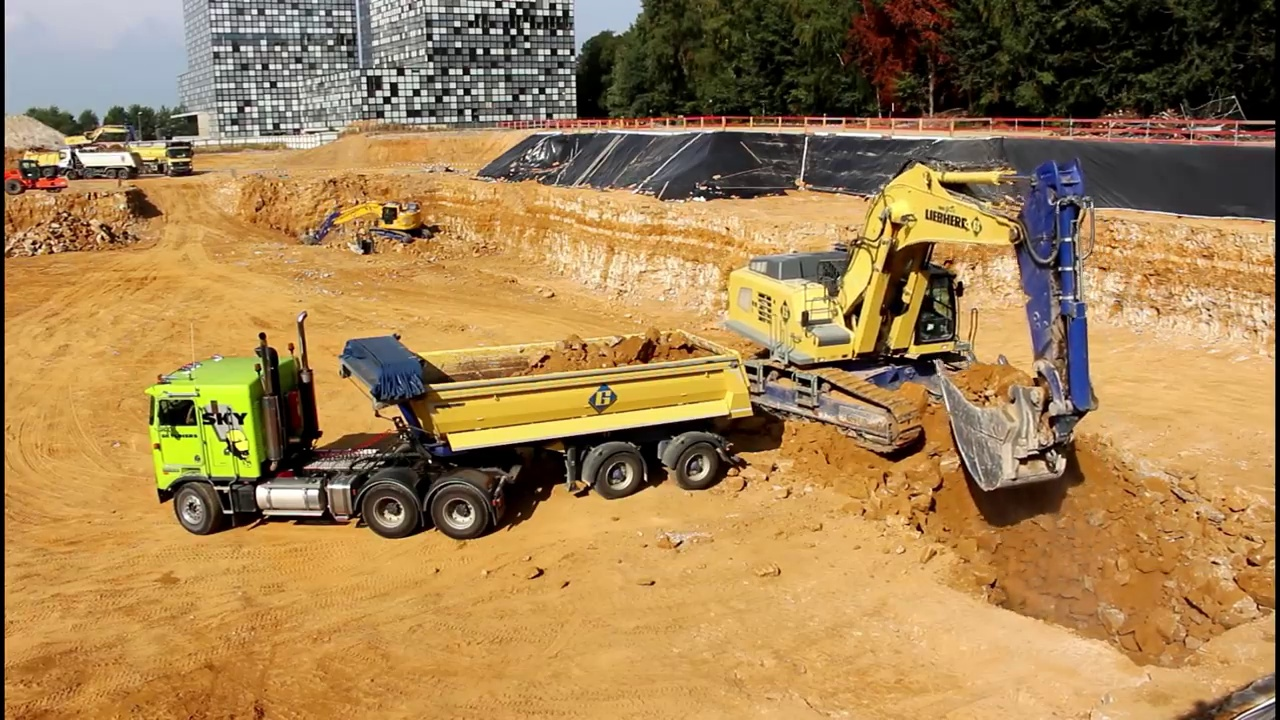excavator: (687, 154, 1108, 500), (301, 196, 445, 262), (59, 119, 139, 155), (4, 159, 71, 195)
truck: (139, 306, 763, 547), (64, 147, 143, 182), (121, 141, 201, 175), (21, 145, 88, 176)
